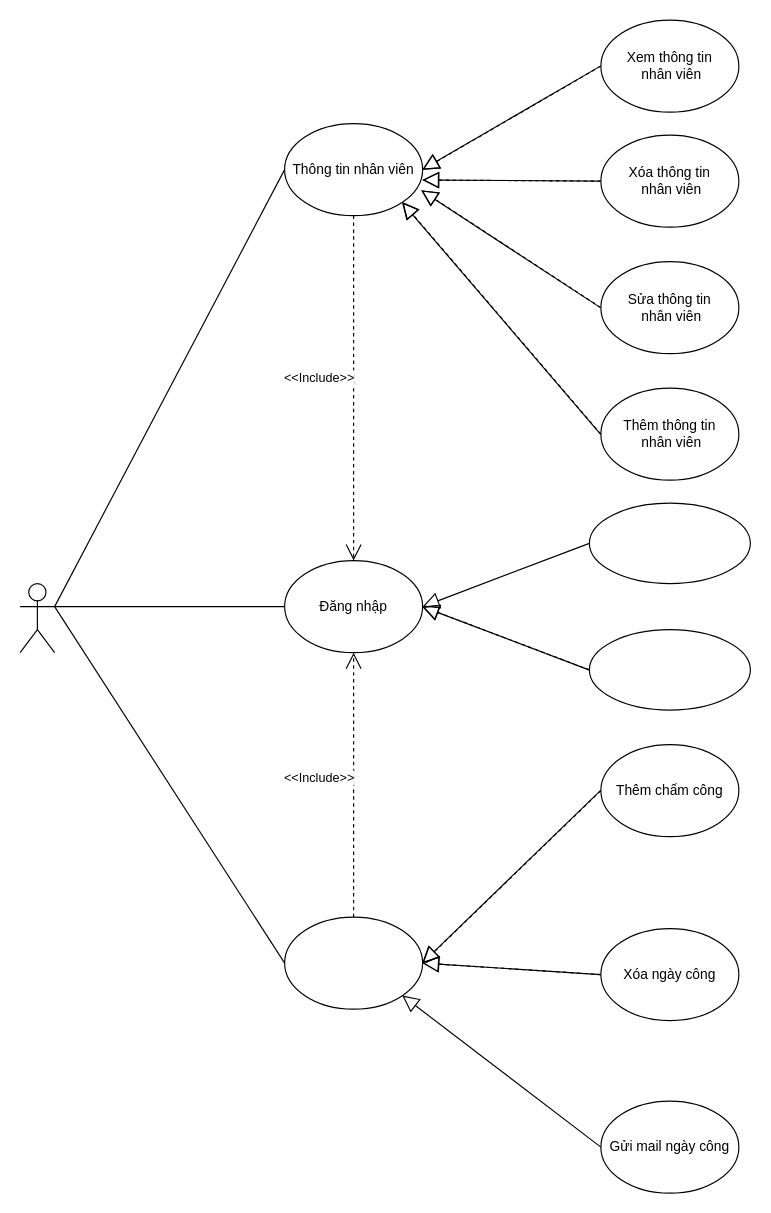
Some shapes in this 771 by 1213 pixel diagram are drawn without their labels. The box of each missing label's shape, as (x1, y1, x2, y2) in pixels:
Actor: (19, 582, 55, 653)
Chấm công: (283, 916, 423, 1009)
Tài khoản công ty: (588, 628, 750, 710)
Tài khoản Google: (588, 502, 750, 584)
